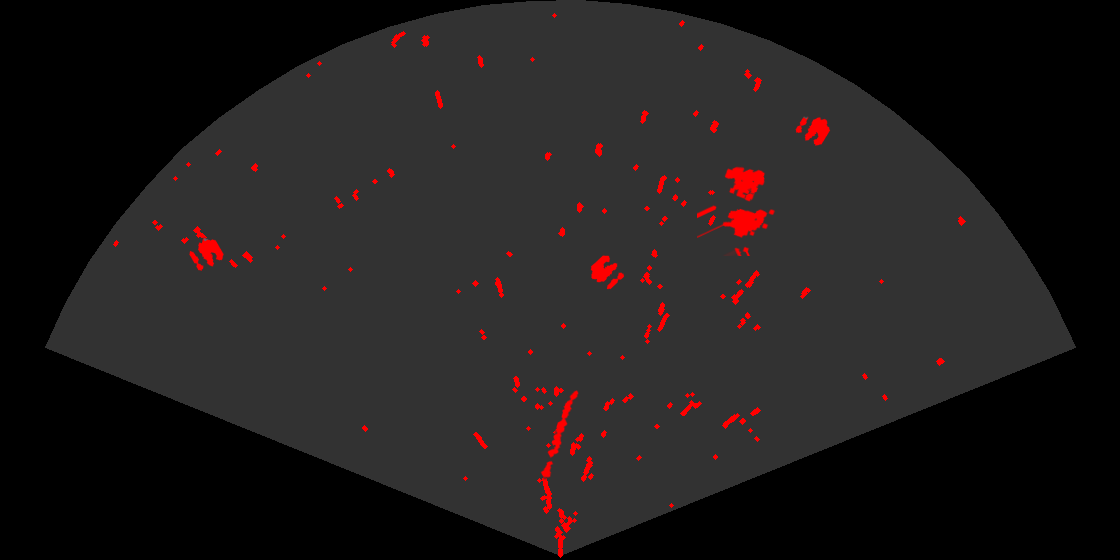ball: (589, 254, 626, 291), (188, 237, 225, 272), (794, 116, 832, 147)
cage: (697, 165, 777, 256)
chain: (539, 389, 580, 480)
